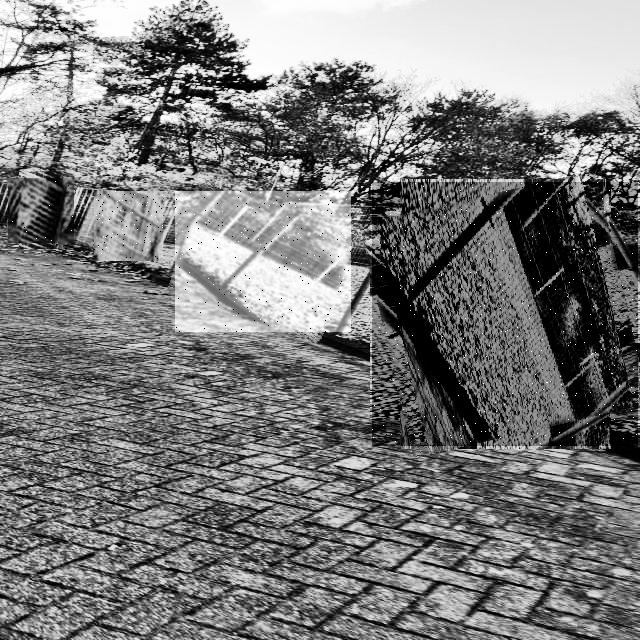fences: (372, 182, 638, 446), (175, 191, 351, 332), (94, 191, 163, 261), (8, 178, 74, 243)
